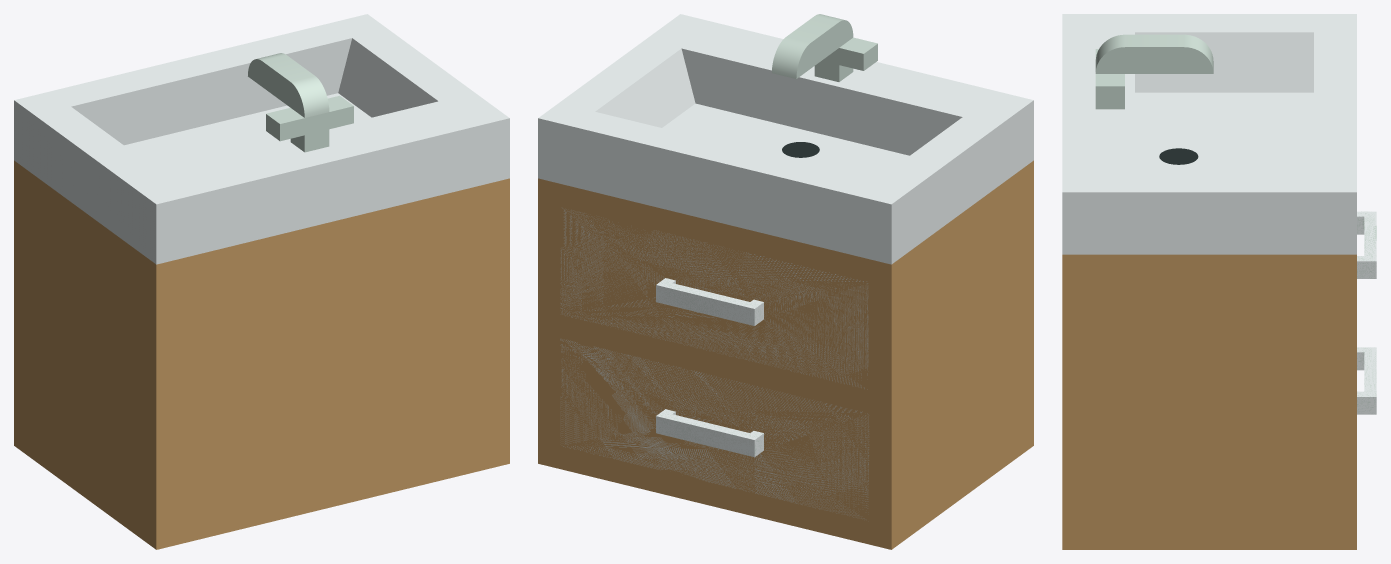
The model's file is kitchenCabinetDrawer.obj.
3 renders of one model, left to right at view 1: azimuth 30°, elevation 25°; view 2: azimuth 150°, elevation 25°; view 3: azimuth 270°, elevation 25°, orthographic. The views are drawn at different scales.
Visible parts, largest first — view 1: kitchenCabinetDrawer; view 2: kitchenCabinetDrawer, drawerBottom, drawerTop; view 3: kitchenCabinetDrawer, drawerBottom, drawerTop.
Boxes of the visible parts, x1,y1,x2,y2 form: kitchenCabinetDrawer: [14, 14, 509, 549]; kitchenCabinetDrawer: [538, 14, 1033, 549]; drawerBottom: [560, 338, 869, 521]; drawerTop: [560, 207, 869, 389]; kitchenCabinetDrawer: [1062, 14, 1356, 549]; drawerBottom: [1357, 347, 1376, 414]; drawerTop: [1357, 211, 1376, 278].
Bounding box in the file's own units: 4.3 × 4.72 × 3.2.
